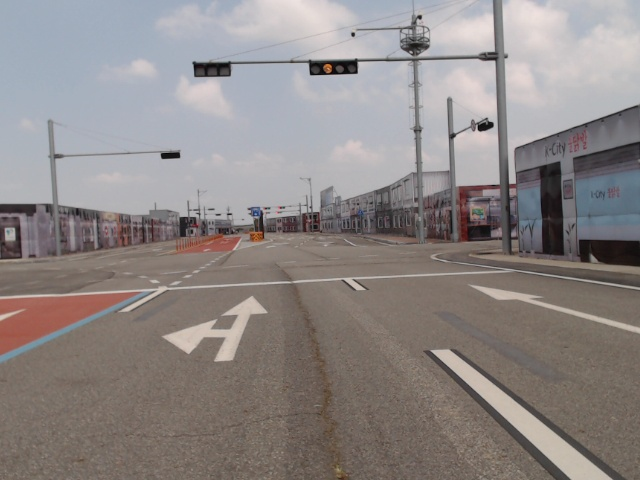orange_4: (308, 60, 359, 76)
